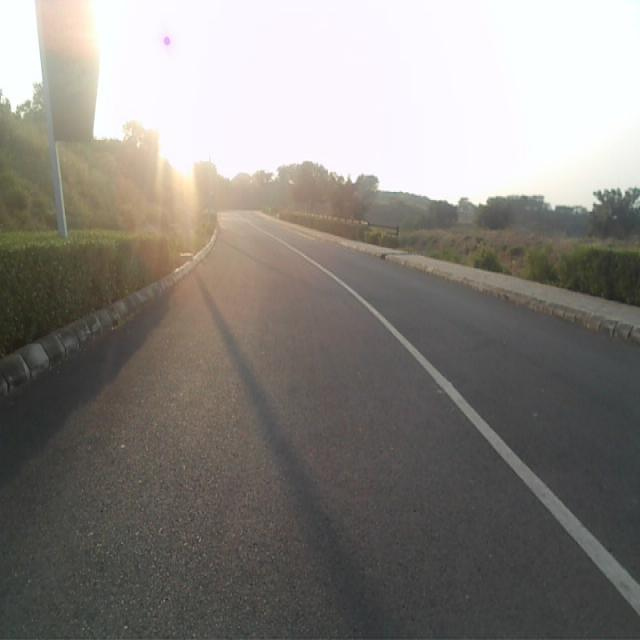lane: (0, 211, 640, 639)
